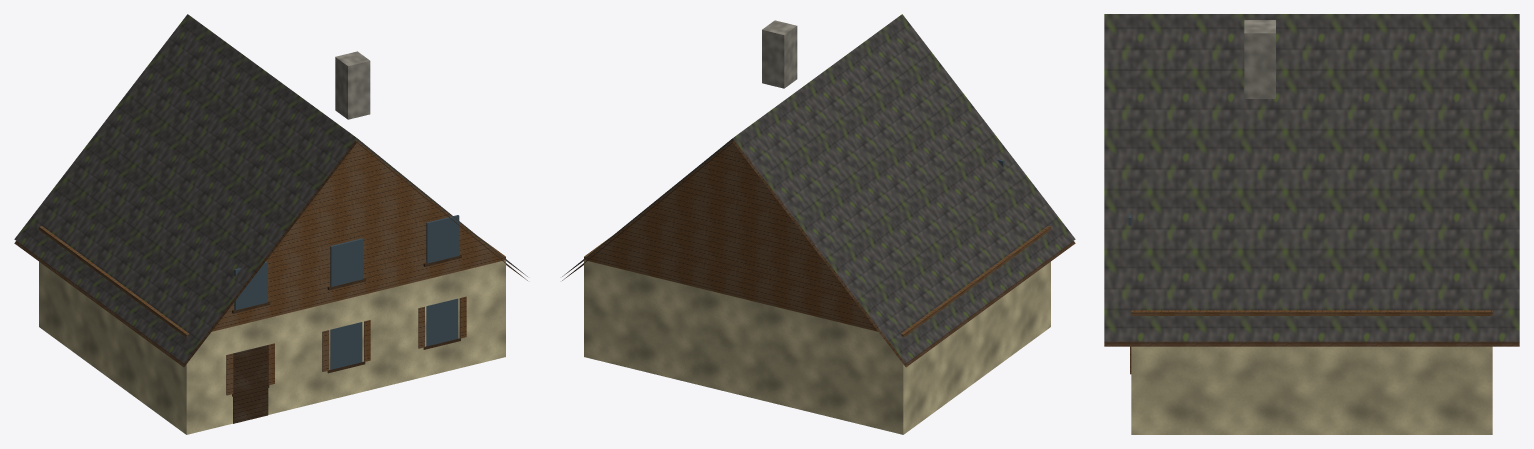
File: village_house_b.glb
The picture shows the model from 3 angles, left to right: view 1: azimuth 30°, elevation 25°; view 2: azimuth 150°, elevation 25°; view 3: azimuth 270°, elevation 25°; orthographic projection. The views are drawn at different scales.
Parts seen in each view (by area): view 1: village_house_b; view 2: village_house_b; view 3: village_house_b.
Part boxes in pixels (<box>): village_house_b: <box>14,14,527,434</box>; village_house_b: <box>562,14,1075,434</box>; village_house_b: <box>1104,14,1519,434</box>.
Size of the model in its own units: 10.85 by 8.5 by 9.2.
6 materials, 5 textured.
